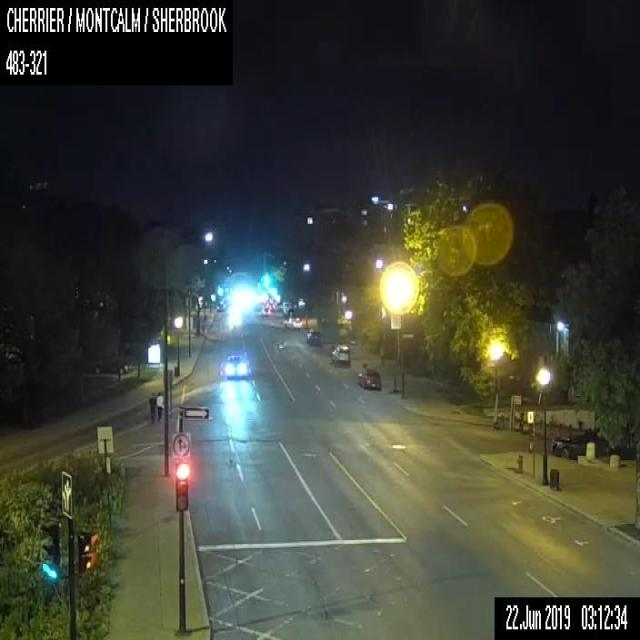pedestrian: (148, 388, 156, 422), (156, 392, 163, 422)
vehicle: (550, 430, 606, 458), (356, 365, 380, 388), (224, 353, 247, 376), (93, 361, 129, 374), (331, 343, 350, 364), (283, 316, 301, 329), (306, 329, 320, 343), (262, 306, 270, 316), (216, 300, 224, 310)
